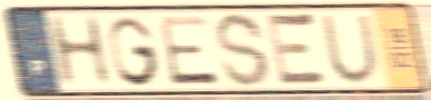E: (264, 9, 332, 90), (156, 13, 222, 88)
G: (106, 13, 163, 89)
H: (44, 13, 116, 90)
S: (212, 10, 274, 90)
U: (317, 12, 384, 86)
